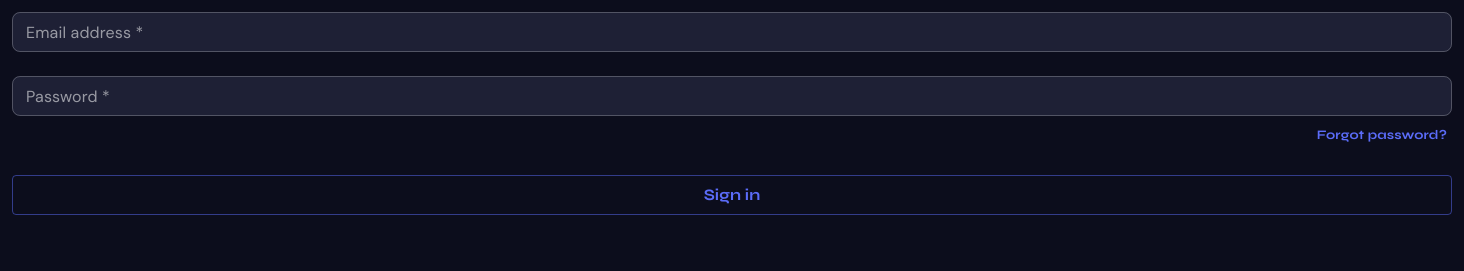
Test: <SignInForm /> › should render both error messages for the email and password fields
Click the button "Sign in". click: point(732, 195)
box: [12,175,1452,215]
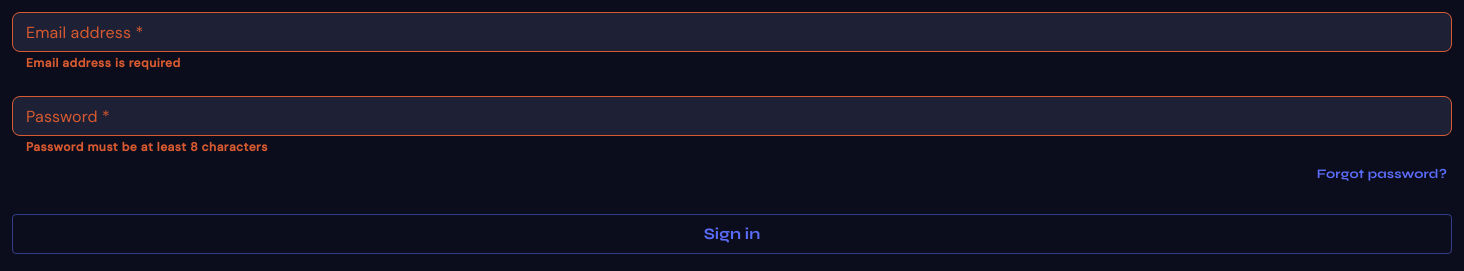
Now the text "Email address is required" is shown, box [26,55,181,71]
Now the text "Password must be at least 8 characters" is shown, box [26,139,268,155]
